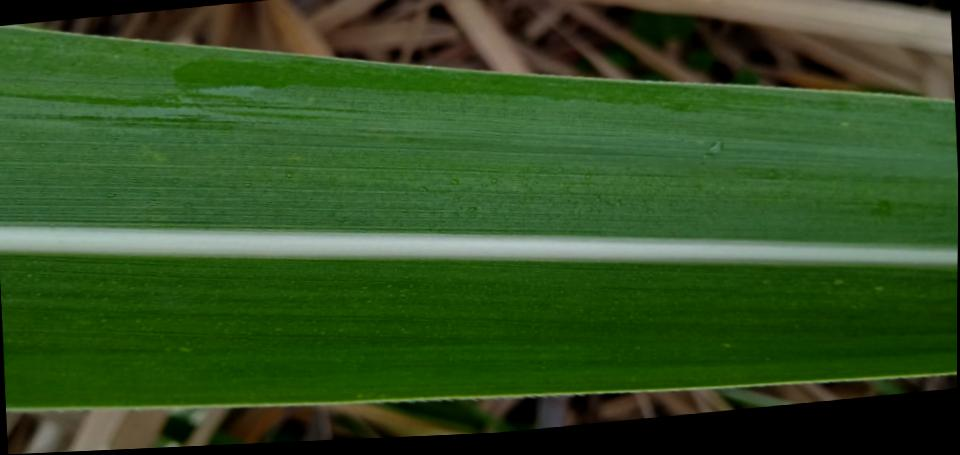Healthy: (0, 28, 958, 409)
